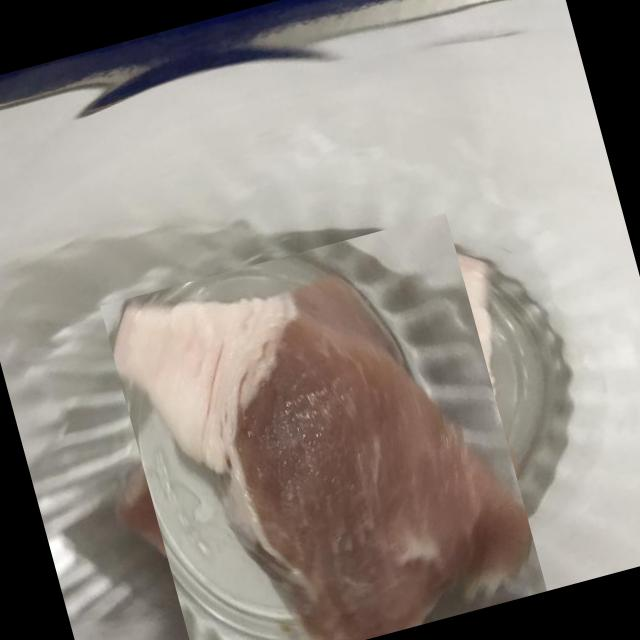chicken: (87, 223, 563, 640)
